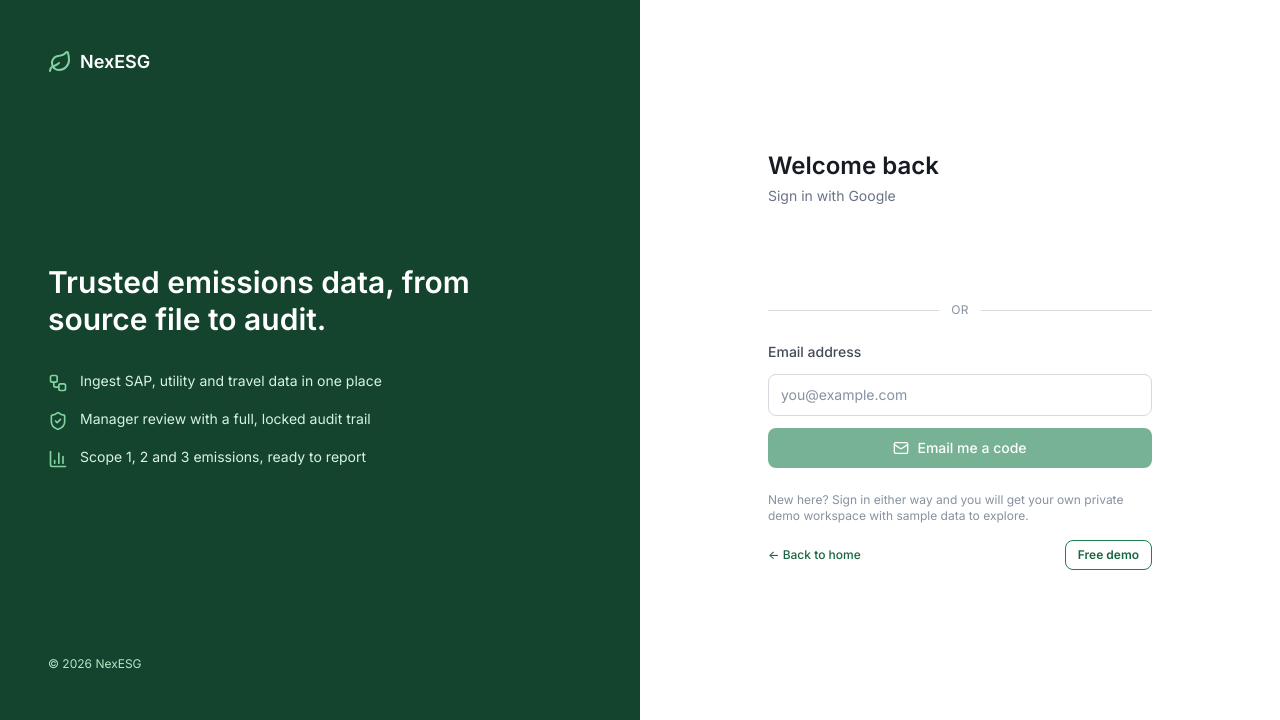
Scenario: signing in with an email code › a wrong code shows the server message and keeps the code box
This screenshot has width=1280, height=720.
In the field labelled "Email address": coordinates (960, 395) [768,374,1152,416], type "visitor@example.com"
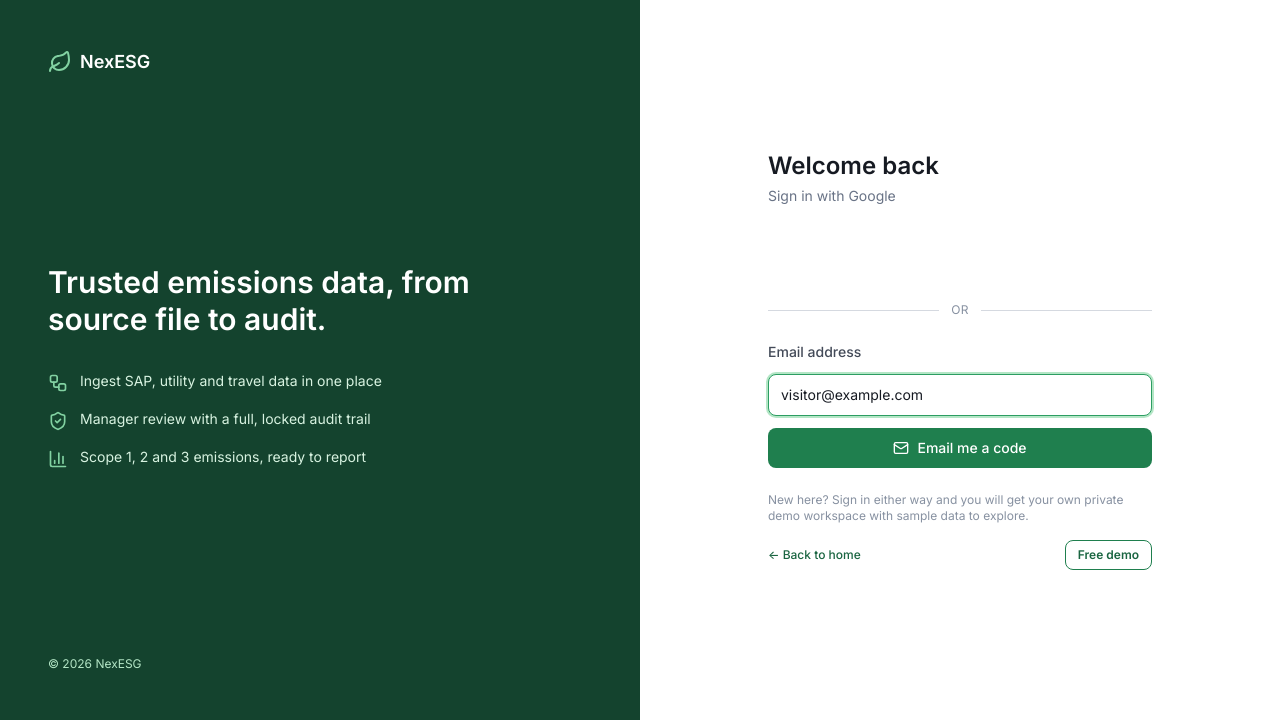
Click the button "Email me a code": coordinates (960, 448) [768,428,1152,468]
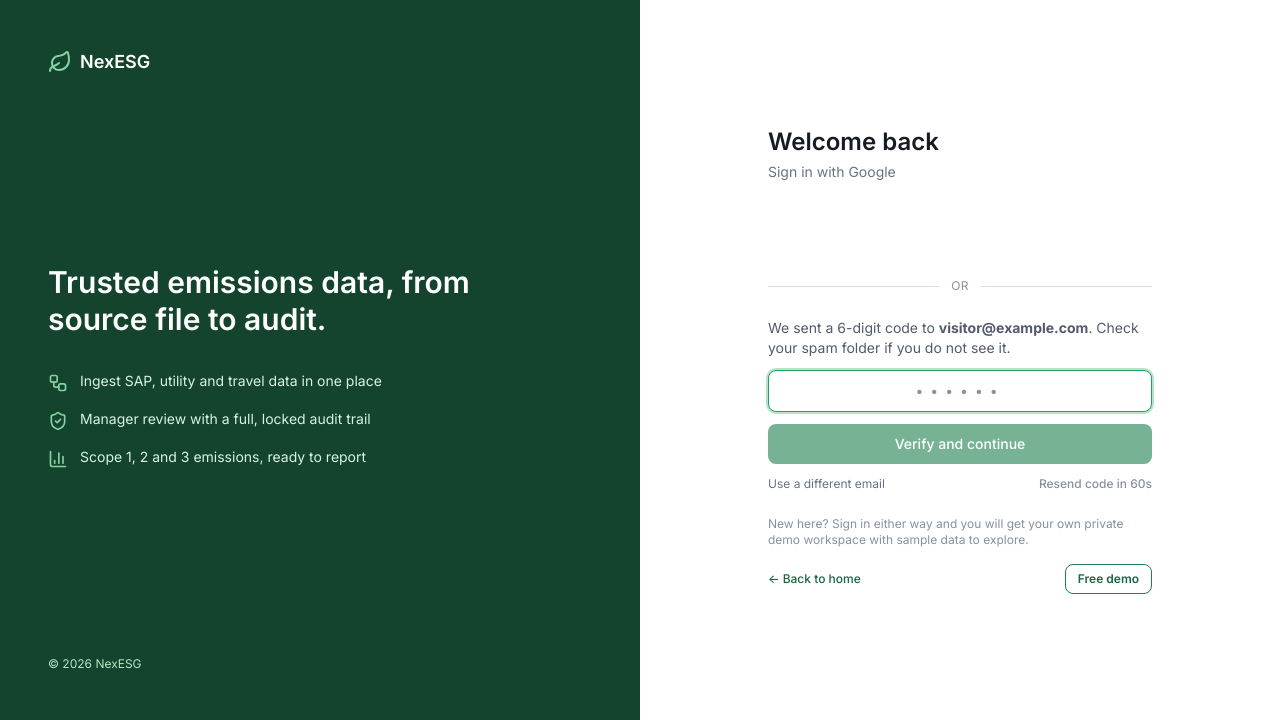
In the field named "6-digit code": coordinates (960, 391) [768,370,1152,412], type "000000"
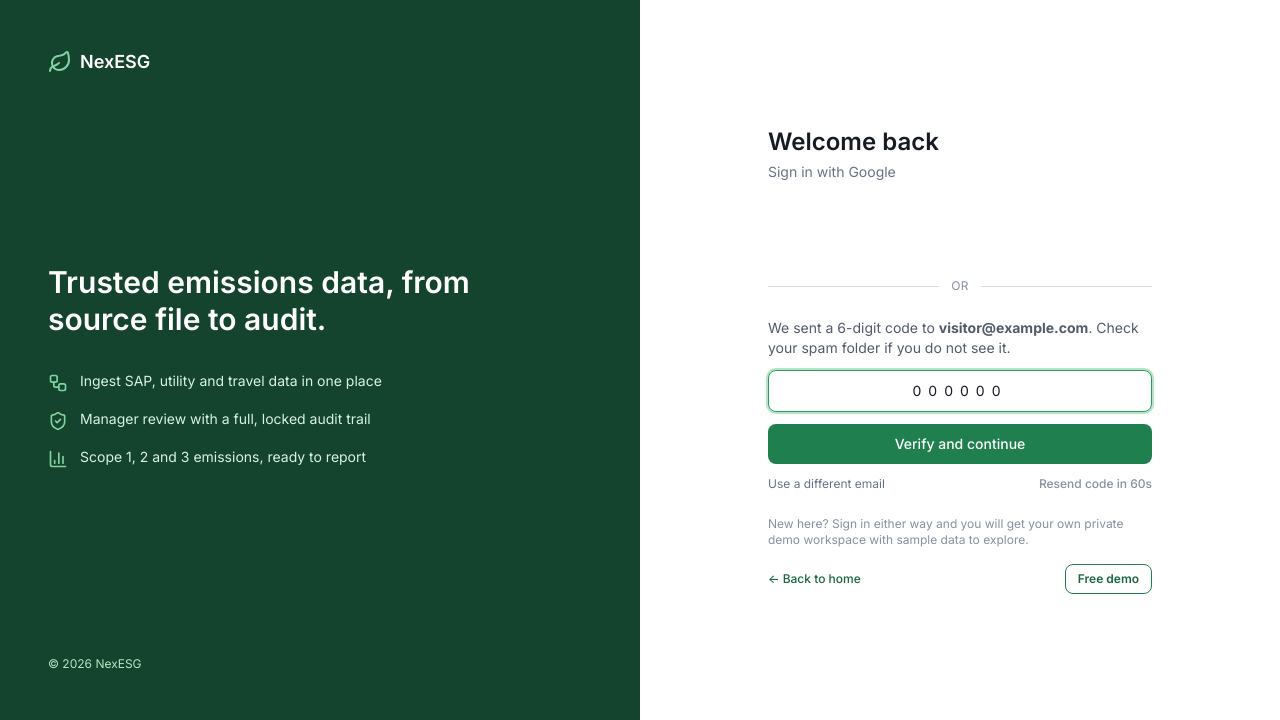
Click the button "Verify and continue": coordinates (960, 444) [768,424,1152,464]
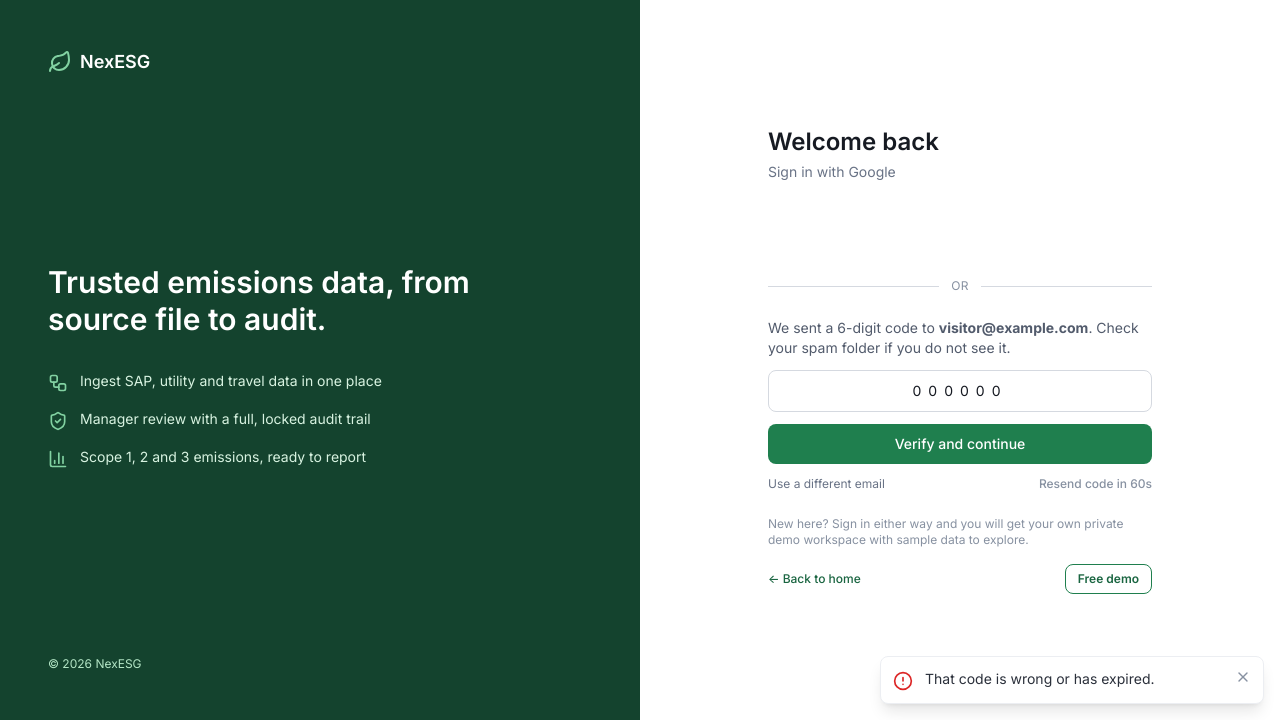
Expected: the text "That code is wrong or has expired." is shown, [925,670,1154,687]
